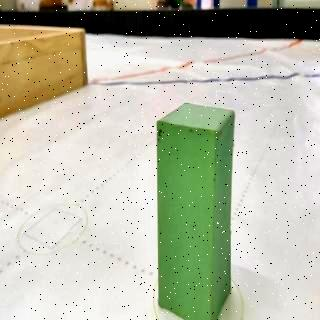greenbox: (157, 101, 236, 320)
